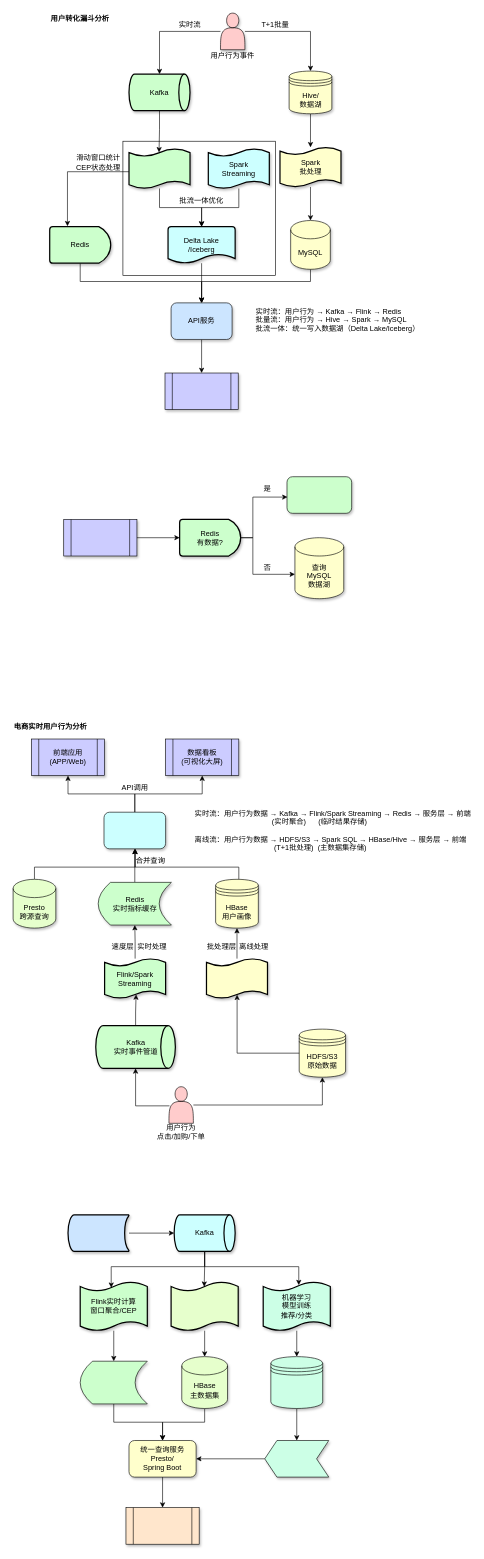
This 484x1559 diagram has some shape labels left out. The centre of each missing label's shape, as x and y in pixels:
"Flink 实时处理" belongs at (x=160, y=169).
"Redis 实时指标" belongs at (x=114, y=1383).
"Serving Layer 服务层" belongs at (x=135, y=831).
"Spark SQL T+1计算" belongs at (x=237, y=979).
"Spark批处理 用户画像/报表" belongs at (x=205, y=1307).
"前端展示" belongs at (x=202, y=392).
"前端应用 APP/Web/大屏" belongs at (x=163, y=1526).
"前端请求" belongs at (x=101, y=538).
"推荐引擎 在线推理" belongs at (x=297, y=1459).
"数据源" belongs at (x=99, y=1233).
"模型仓库 TensorFlow/ PMML" belongs at (x=297, y=1383).
"返回实时结果" belongs at (x=319, y=496).
